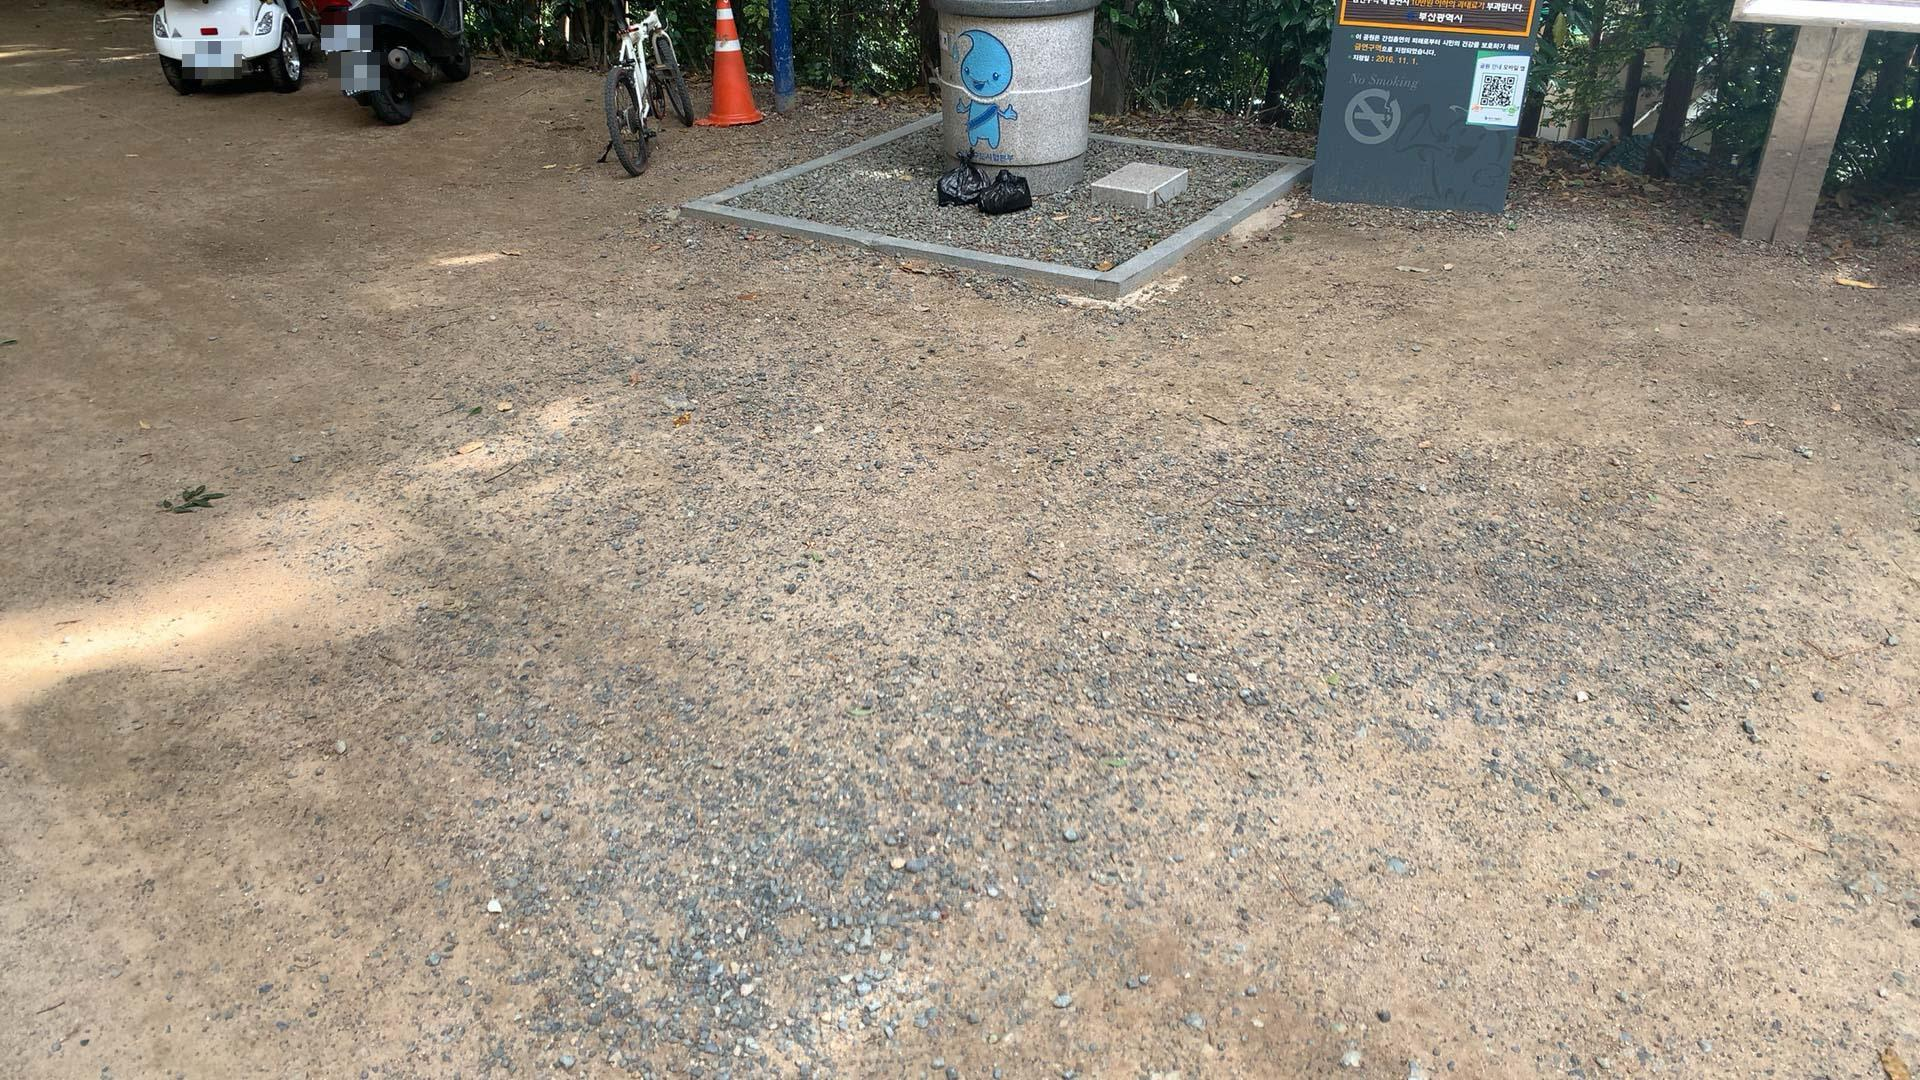black_bag: (934, 142, 990, 206), (975, 166, 1035, 215)
